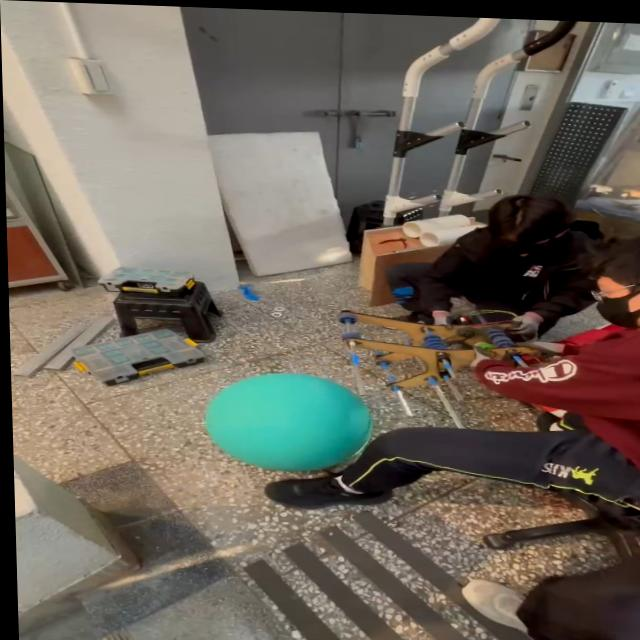ALGAE: (200, 369, 375, 475)
